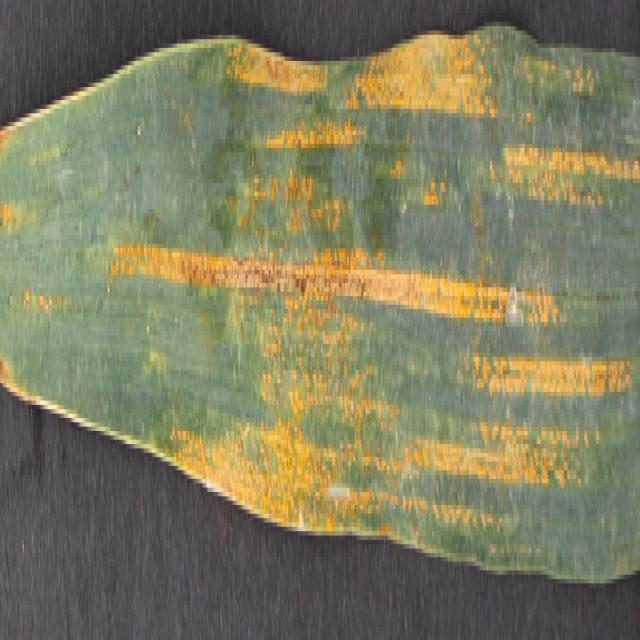leaf rust: (1, 26, 638, 549)
